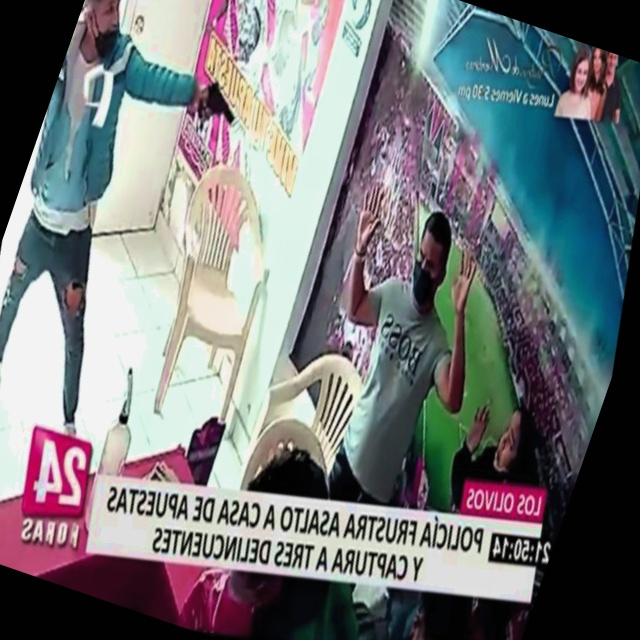gun: (177, 59, 262, 161)
